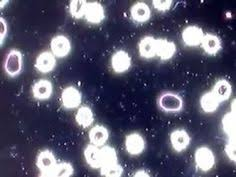Malaria: (35, 151, 73, 177), (108, 48, 135, 77), (34, 51, 57, 74), (193, 148, 215, 172), (50, 35, 71, 58), (156, 37, 175, 61), (182, 26, 203, 47), (136, 35, 156, 57), (168, 131, 190, 151), (61, 87, 81, 108), (203, 34, 222, 56), (212, 79, 231, 101), (32, 79, 52, 99), (89, 125, 109, 145), (85, 4, 105, 24), (125, 133, 144, 154), (130, 3, 150, 22), (201, 90, 218, 112), (68, 1, 87, 20)
